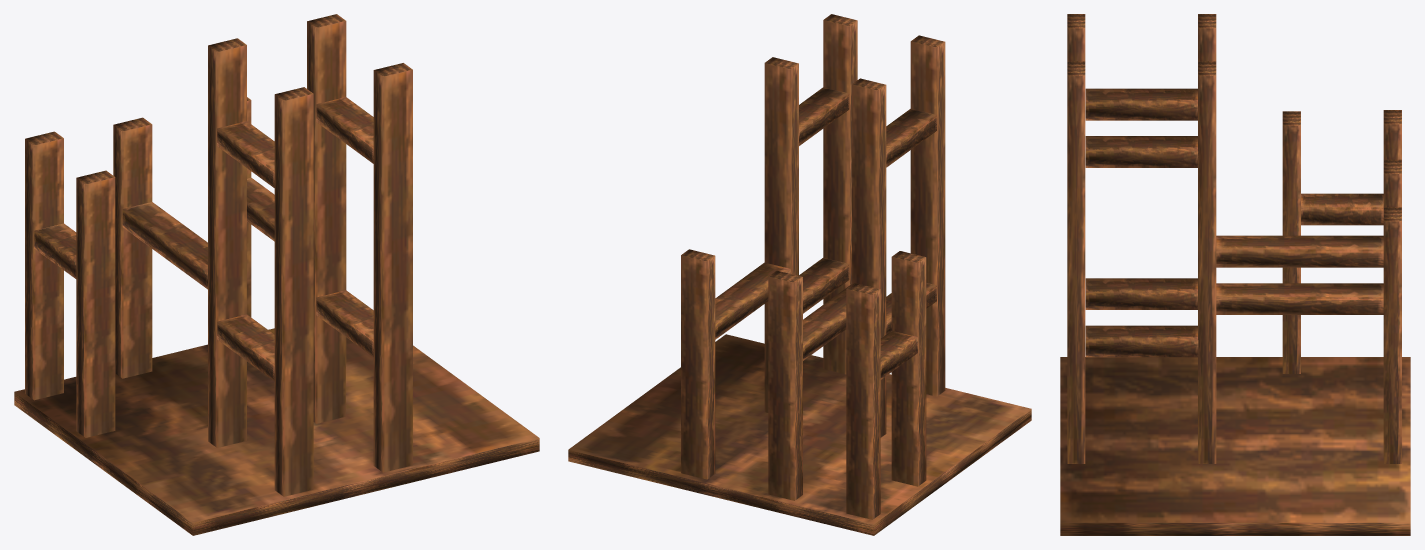
Rendered from INST_SWORDLIGHT_PLATA.fbx.
The picture shows the model from 3 angles, left to right: view 1: azimuth 30°, elevation 25°; view 2: azimuth 150°, elevation 25°; view 3: azimuth 270°, elevation 25°; orthographic projection. The views are drawn at different scales.
Parts seen in each view (by area): view 1: INST_SWORDLIGHT_PLATA; view 2: INST_SWORDLIGHT_PLATA; view 3: INST_SWORDLIGHT_PLATA.
Part boxes in pixels (bbox=[...]): INST_SWORDLIGHT_PLATA: bbox=[14, 14, 539, 535]; INST_SWORDLIGHT_PLATA: bbox=[568, 14, 1031, 535]; INST_SWORDLIGHT_PLATA: bbox=[1060, 14, 1410, 535].
Size of the model in its own units: 25069 by 28286 by 22392.
1 material, 1 textured.
